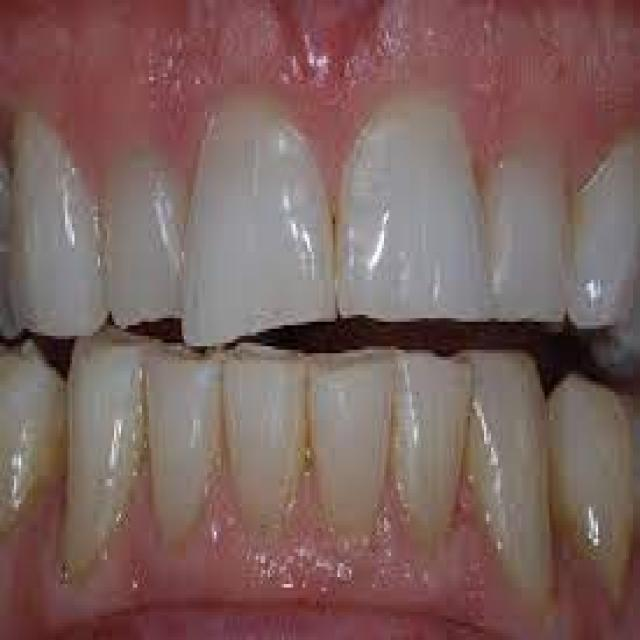tooth: (182, 112, 338, 339), (333, 109, 491, 332), (452, 322, 556, 594), (547, 353, 640, 609), (7, 112, 109, 339), (221, 328, 314, 560), (60, 328, 144, 574), (307, 332, 396, 549), (393, 336, 477, 560), (486, 126, 570, 332), (96, 157, 196, 329), (147, 336, 221, 556)
